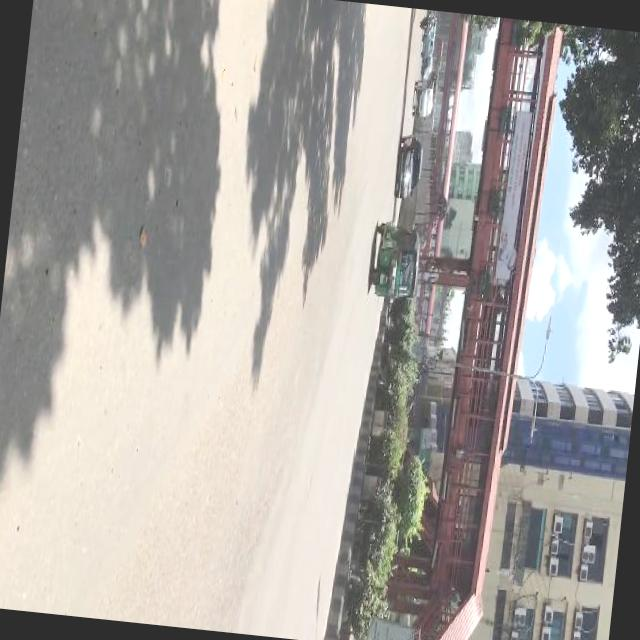car: (392, 136, 426, 203), (419, 26, 437, 58)
motorcycle: (368, 220, 422, 304)
truck: (412, 81, 434, 121)
